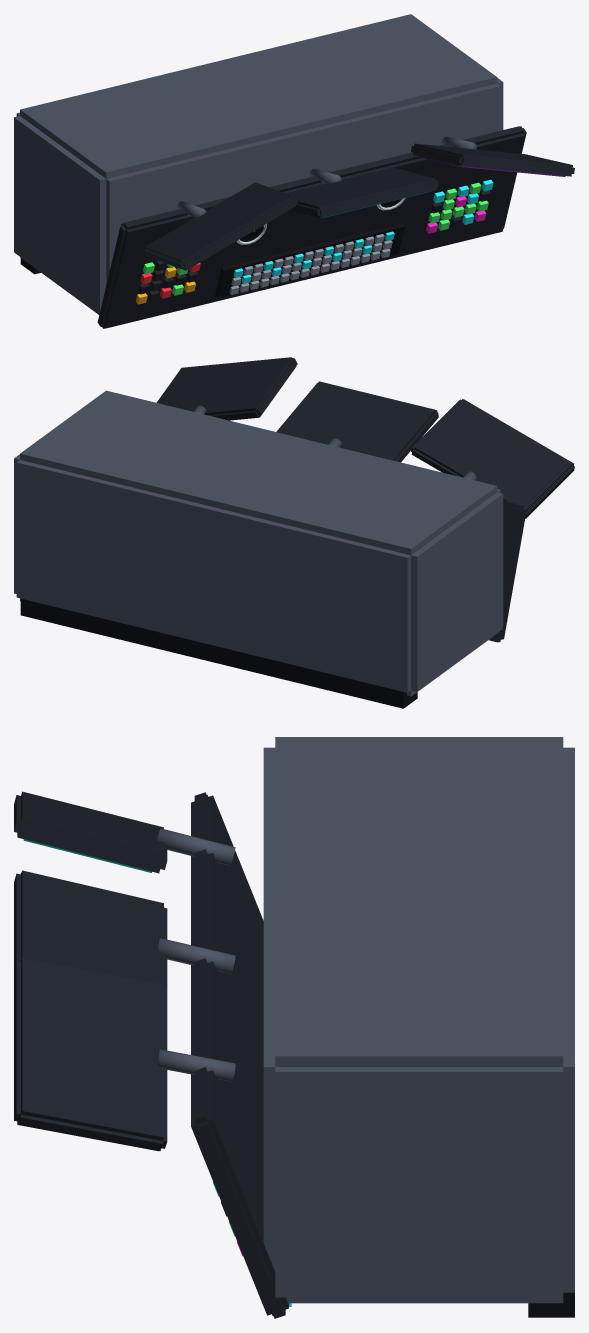
File: shooter-console.glb
3 views of the same model, one above another, from view 1: azimuth 30°, elevation 25°; view 2: azimuth 150°, elevation 25°; view 3: azimuth 270°, elevation 25° (orthographic). The views are drawn at different scales.
Parts seen in each view (by area): view 1: Model Mesh; view 2: Model Mesh; view 3: Model Mesh.
Part boxes in pixels (bbox=[...]): Model Mesh: bbox=[14, 14, 574, 328]; Model Mesh: bbox=[14, 357, 574, 708]; Model Mesh: bbox=[14, 737, 574, 1318].
Bounding box in the file's own units: 2 × 0.7733 × 1.44.
Materials: 2 (2 with a texture image).
